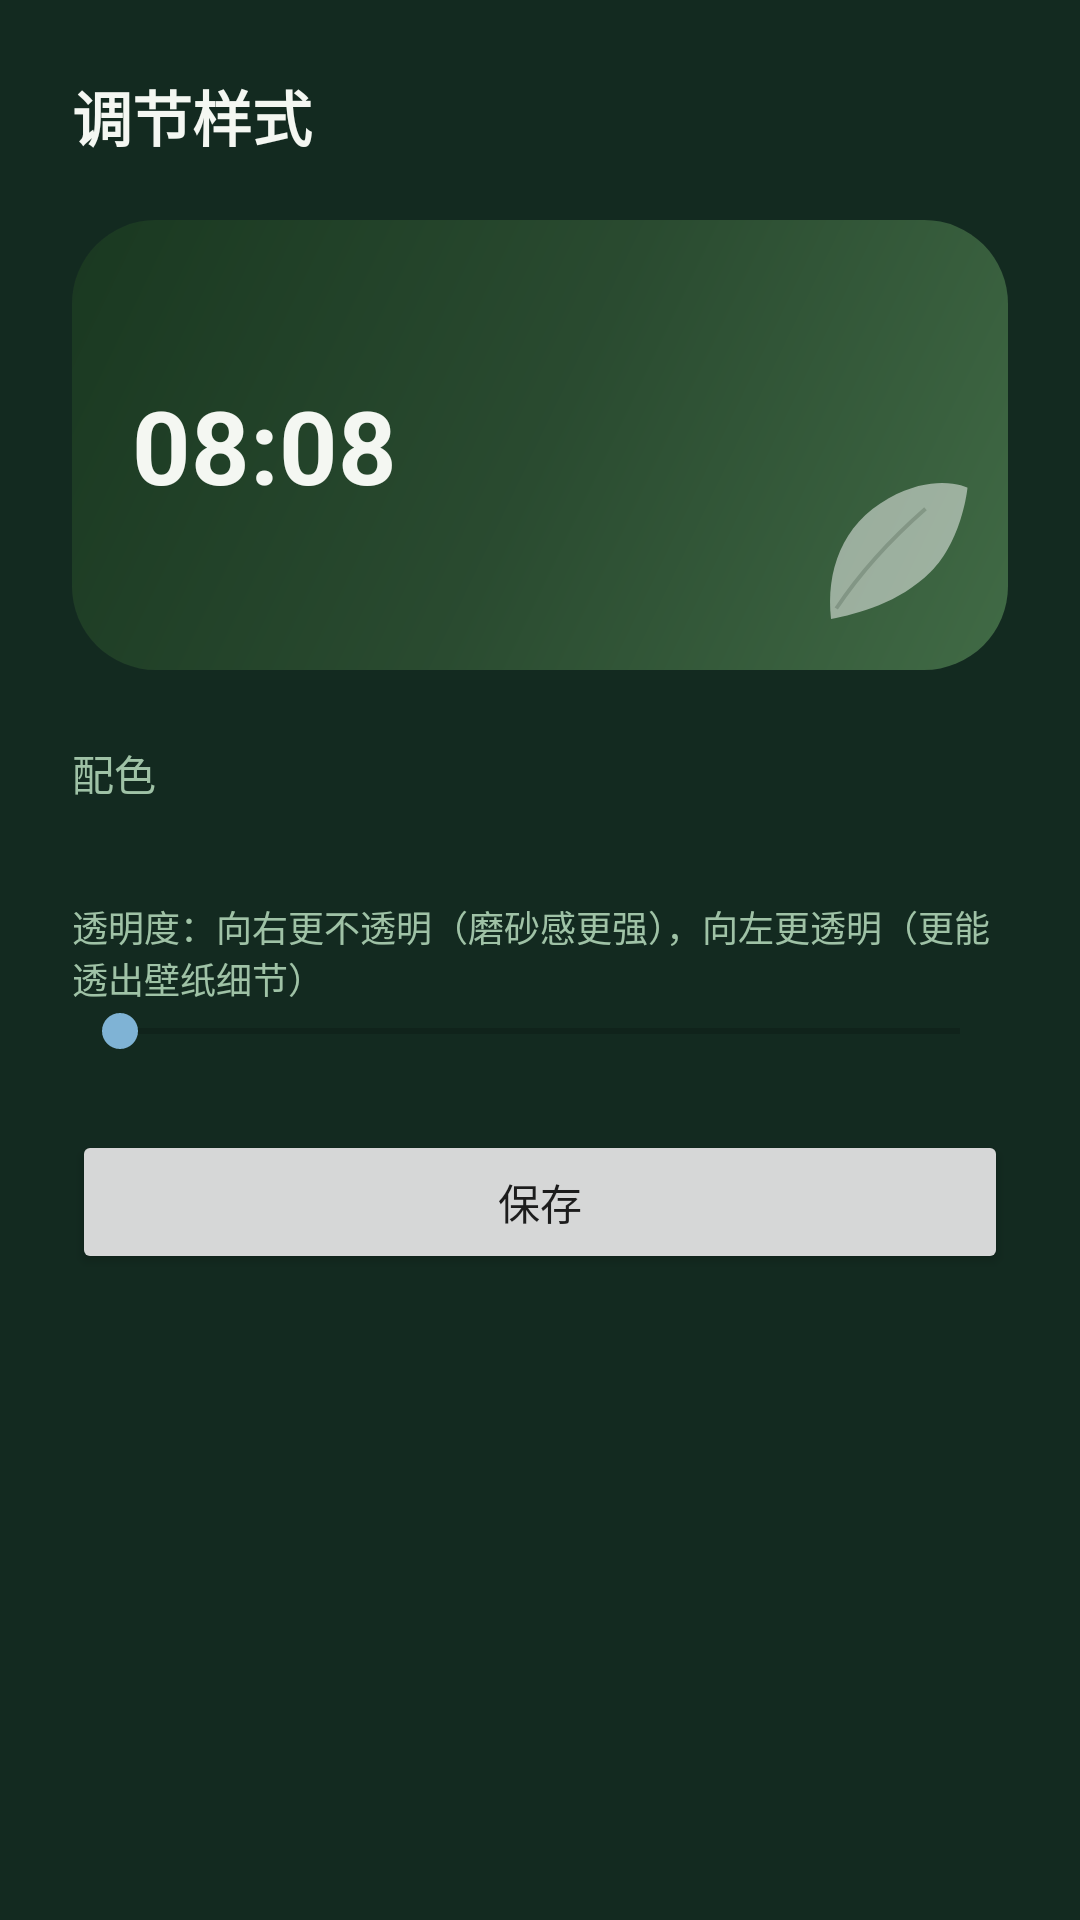

Where icons sit on this 1080 × 1920 app screen, as (x1, y1, x2, y2):
leaf: (830, 483, 968, 619)
